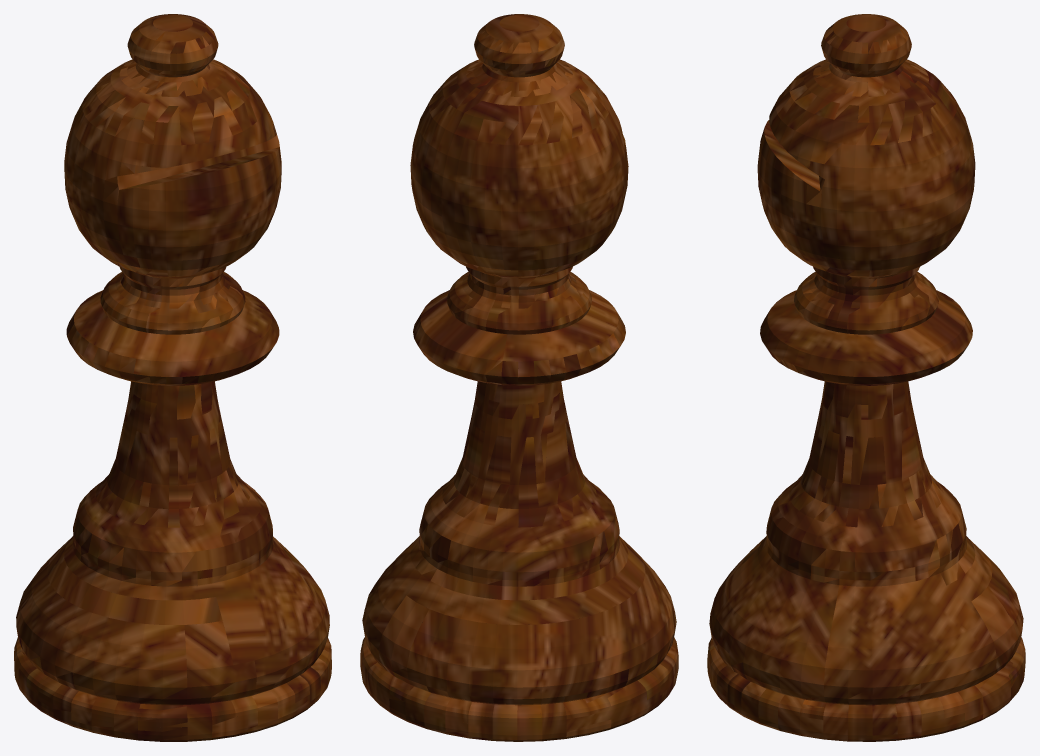
The model's file is bishop_2.obj.
3 views of the same model, side by side, from view 1: azimuth 30°, elevation 25°; view 2: azimuth 150°, elevation 25°; view 3: azimuth 270°, elevation 25° (orthographic).
Visible parts, largest first — view 1: ALFIERE02; view 2: ALFIERE02; view 3: ALFIERE02.
Boxes of the visible parts, box(x1,y1,x2,y2) form: ALFIERE02: box(14, 14, 331, 741); ALFIERE02: box(360, 14, 678, 741); ALFIERE02: box(707, 14, 1025, 741).
Bounding box in the file's own units: 78.55 × 179 × 78.54.
1 material, 1 textured.
